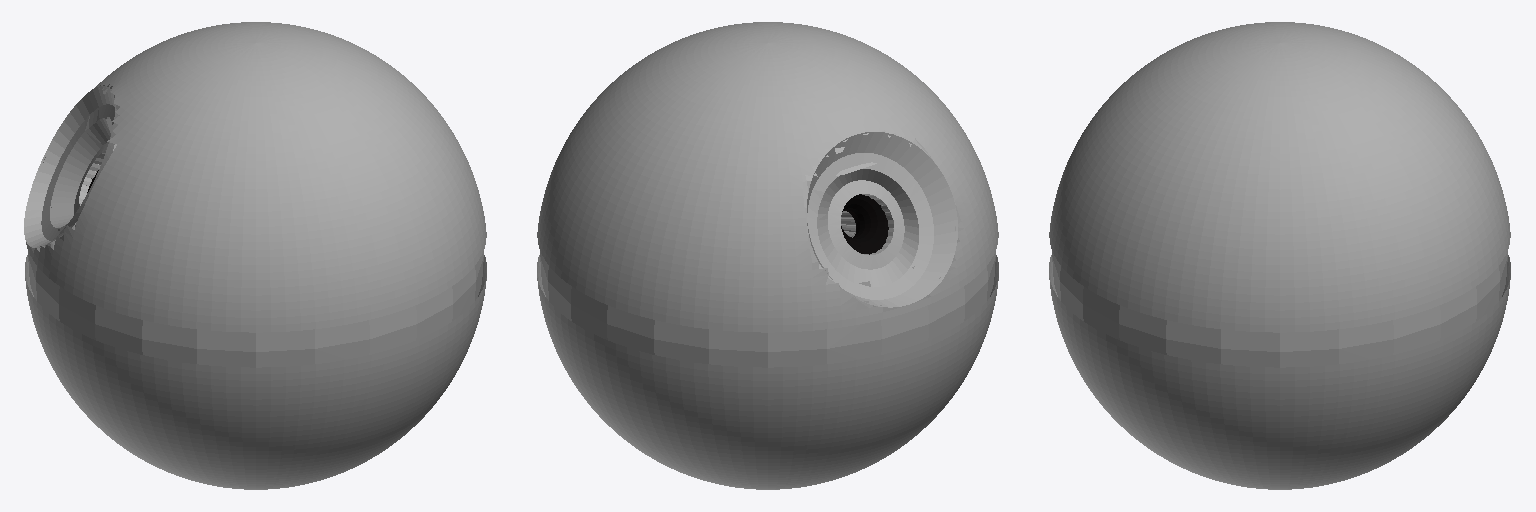
File: death-star.obj
3 renders of one model, left to right at view 1: azimuth 30°, elevation 25°; view 2: azimuth 150°, elevation 25°; view 3: azimuth 270°, elevation 25°, orthographic.
Parts seen in each view (by area): view 1: Sphere5, Sphere1, Sphere8, Sphere4, Sphere9, Sphere; view 2: Sphere5, Sphere1, Sphere9, Sphere8, Sphere4, Sphere, Torus3; view 3: Sphere5, Sphere1, Sphere8, Sphere4.
Part boxes in pixels (bbox=[...]): Sphere5: bbox=[25, 22, 486, 489]; Sphere1: bbox=[25, 22, 486, 489]; Sphere8: bbox=[28, 246, 483, 367]; Sphere4: bbox=[28, 251, 483, 367]; Sphere9: bbox=[24, 86, 117, 247]; Sphere: bbox=[24, 86, 116, 247]; Sphere5: bbox=[537, 22, 998, 489]; Sphere1: bbox=[537, 22, 998, 489]; Sphere9: bbox=[807, 132, 957, 307]; Sphere8: bbox=[540, 251, 995, 367]; Sphere4: bbox=[540, 251, 995, 367]; Sphere: bbox=[808, 132, 957, 307]; Torus3: bbox=[841, 194, 888, 254]; Sphere5: bbox=[1049, 22, 1510, 489]; Sphere1: bbox=[1049, 23, 1510, 488]; Sphere8: bbox=[1052, 251, 1507, 367]; Sphere4: bbox=[1052, 251, 1507, 367].
Bounding box in the file's own units: 0.9846 × 0.9995 × 0.9846.